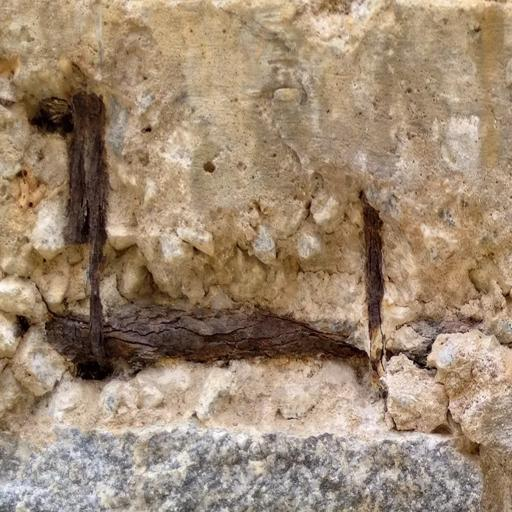spalling: (26, 39, 512, 447)
